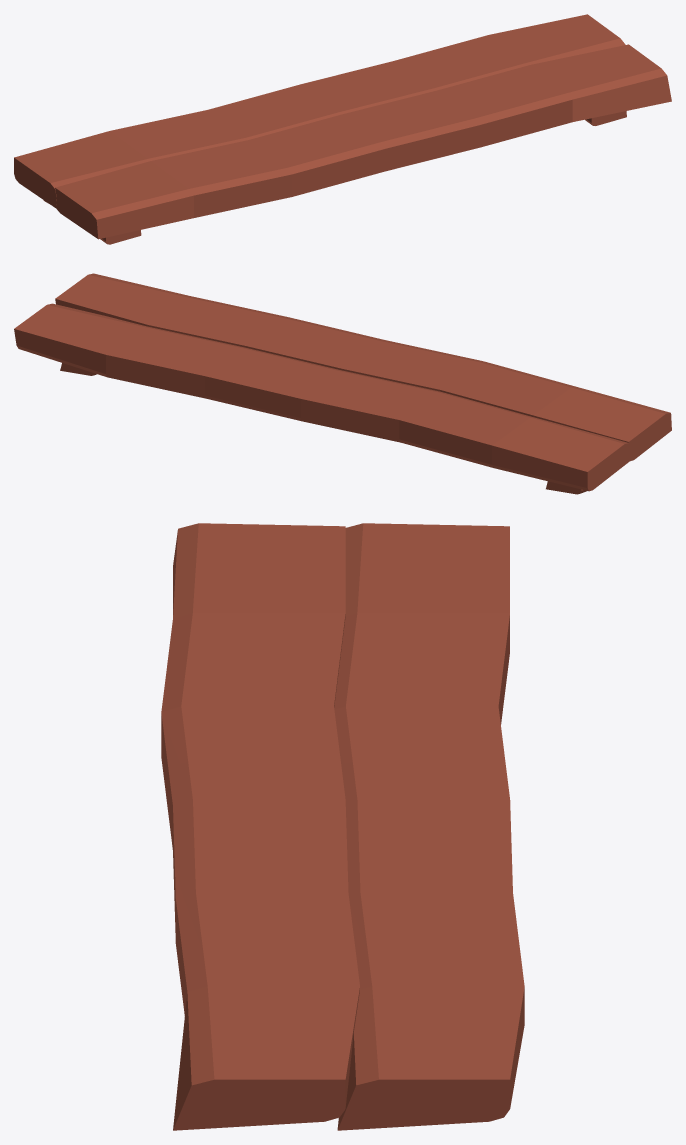
File: shelf.glb
The picture shows the model from 3 angles, top to bottom: view 1: azimuth 30°, elevation 25°; view 2: azimuth 150°, elevation 25°; view 3: azimuth 270°, elevation 25°; orthographic projection. The views are drawn at different scales.
Parts seen in each view (by area): view 1: shelf; view 2: shelf; view 3: shelf.
Boxes of the visible parts, left/top/right/bottom form: shelf: left=14, top=14, right=671, bottom=244; shelf: left=14, top=273, right=671, bottom=494; shelf: left=161, top=523, right=524, bottom=1130.
Bounding box in the file's own units: 1.18 × 0.073 × 0.3227.
Materials: 1 (1 with a texture image).
